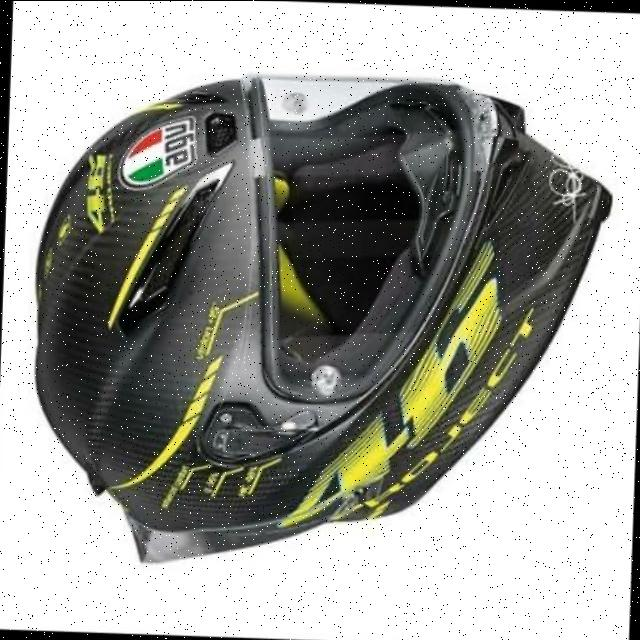Helm: (16, 50, 617, 596)
